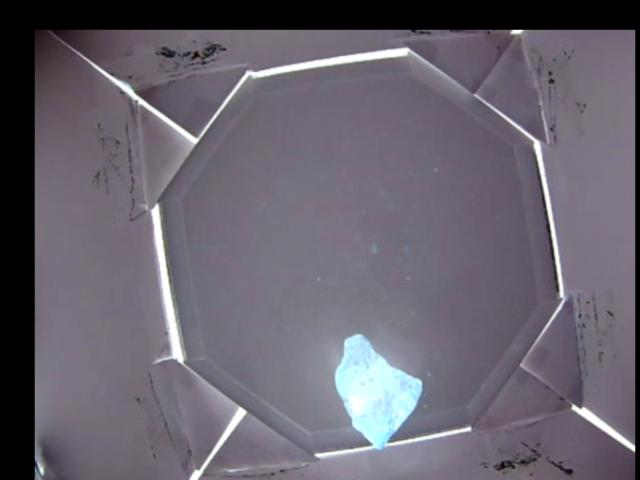Brisk: (334, 336, 424, 447)
